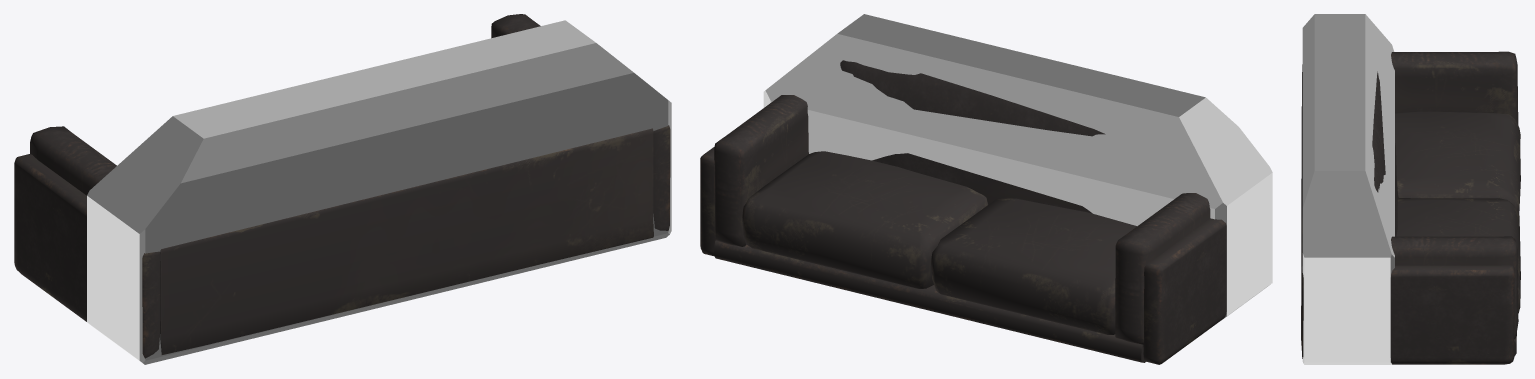
Rendered from SM_Sofa_02.fbx.
3 renders of one model, left to right at view 1: azimuth 30°, elevation 25°; view 2: azimuth 150°, elevation 25°; view 3: azimuth 270°, elevation 25°, orthographic. The views are drawn at different scales.
Visible parts, largest first — view 1: SM_Sofa_02_ConvexHulls, SM_Sofa_02_LOD0; view 2: SM_Sofa_02_LOD0, SM_Sofa_02_ConvexHulls; view 3: SM_Sofa_02_LOD0, SM_Sofa_02_ConvexHulls.
Part boxes in pixels (x1,y1,x2,y2): SM_Sofa_02_ConvexHulls: (87, 20, 671, 364); SM_Sofa_02_LOD0: (14, 14, 670, 358); SM_Sofa_02_LOD0: (700, 60, 1226, 364); SM_Sofa_02_ConvexHulls: (763, 14, 1272, 319); SM_Sofa_02_LOD0: (1301, 51, 1520, 364); SM_Sofa_02_ConvexHulls: (1302, 14, 1394, 364).
Size of the model in its own units: 346 by 151 by 128.
